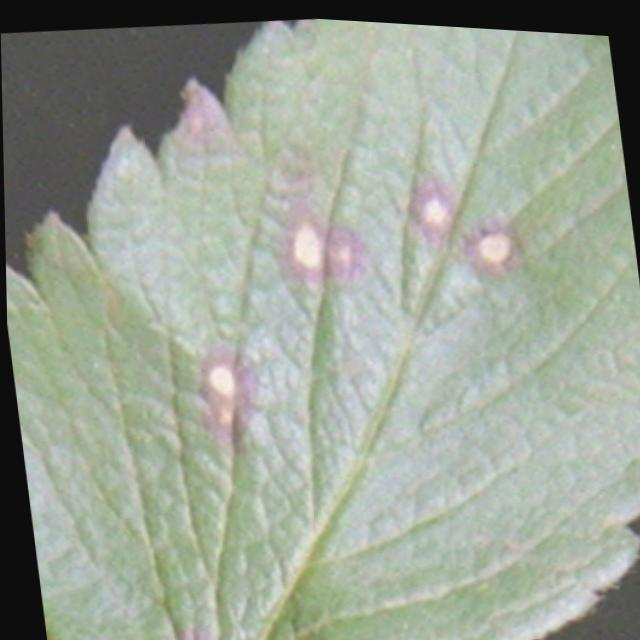Leaf Spot: (5, 14, 640, 640)
